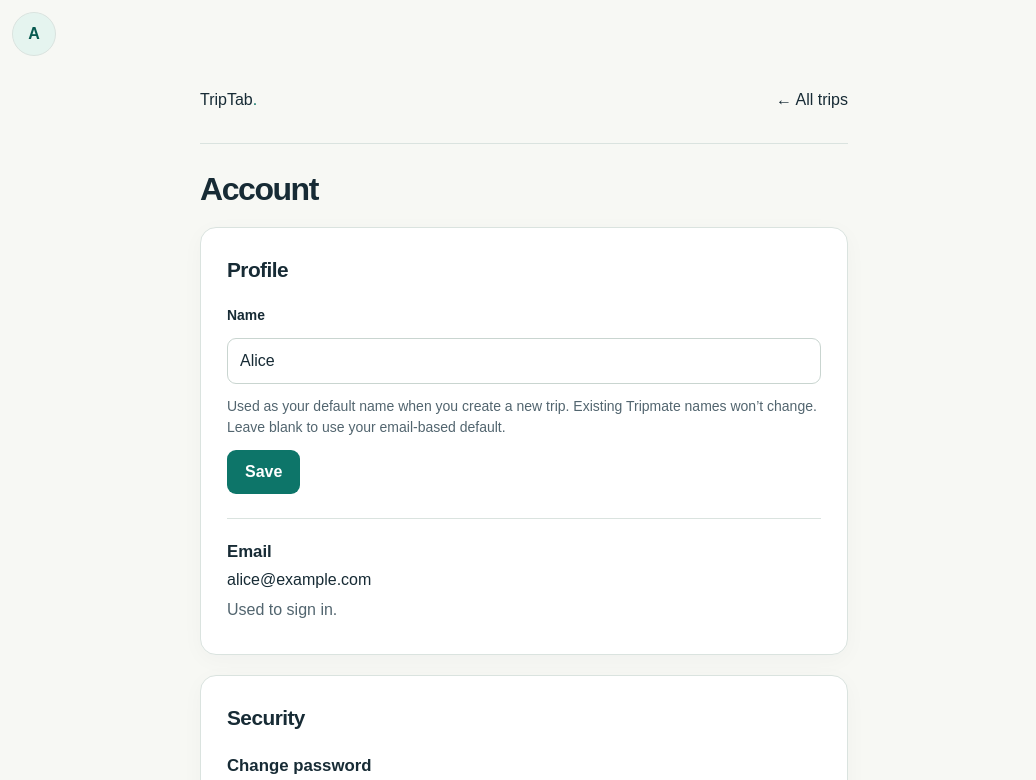
Test: does not retry an uncertain profile mutation and safely rechecks
Submit the form labelled "Name", box [227, 305, 821, 494]
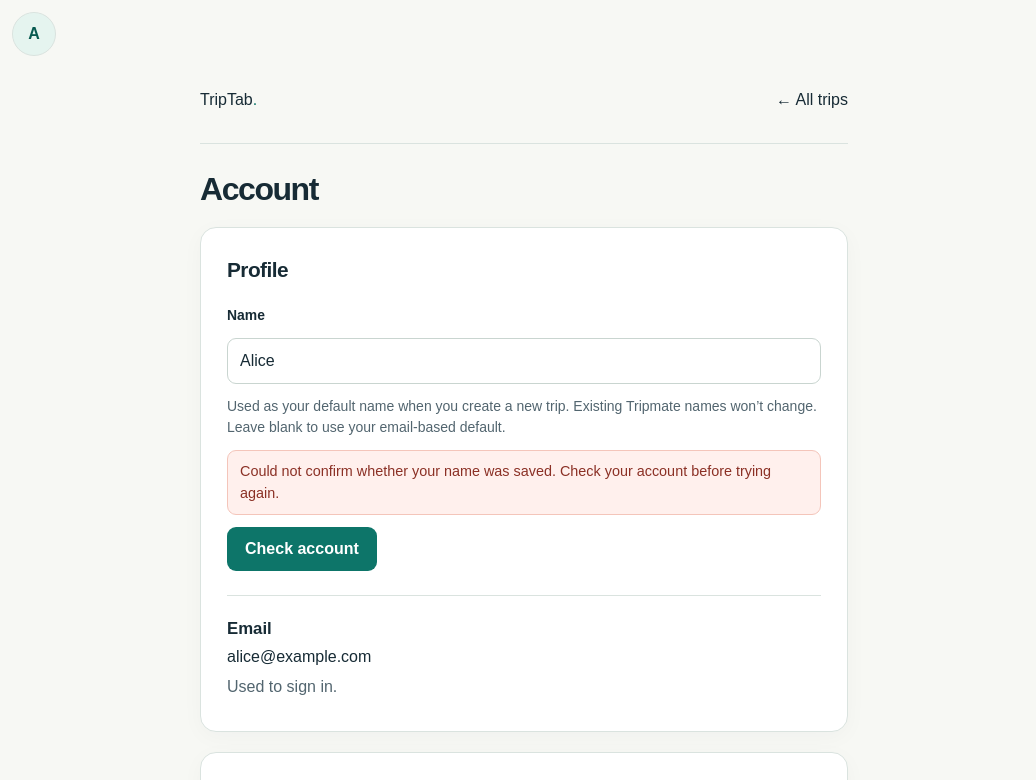
Expected: the button "Check account" is shown, [227, 528, 377, 572]
Submit the form labelled "Name", box [227, 305, 821, 572]
Click the button "Check account" at (302, 550), box [227, 528, 377, 572]
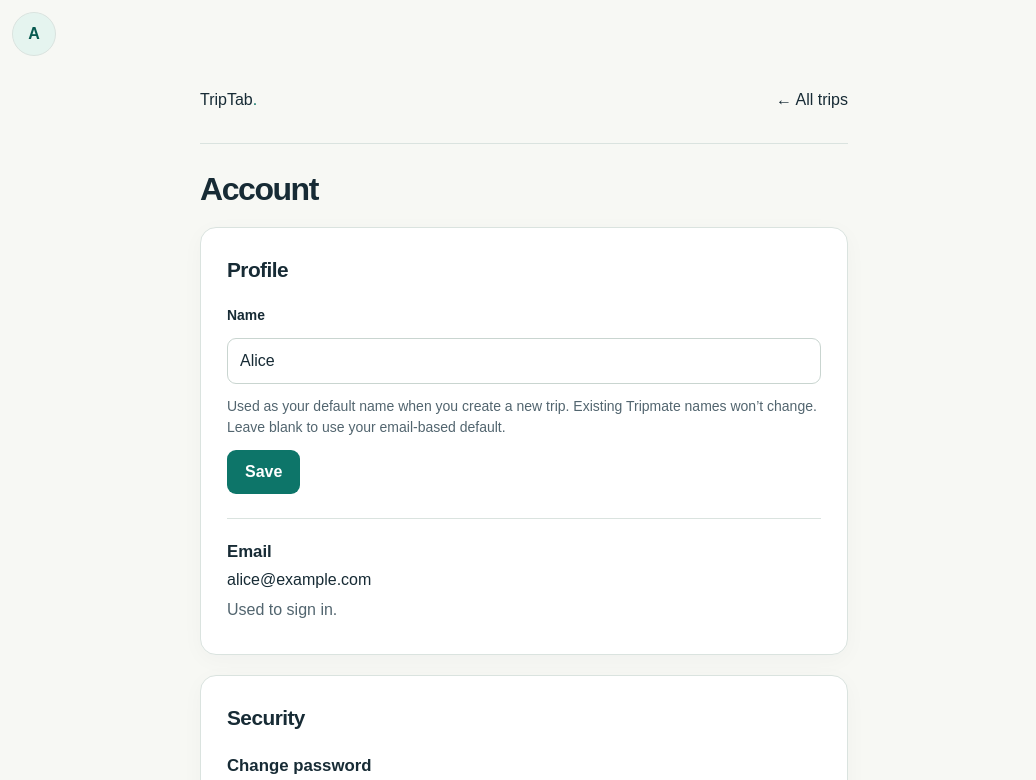
Expected: the message "Could not confirm whether your name was saved. Check your account before trying" is gone
